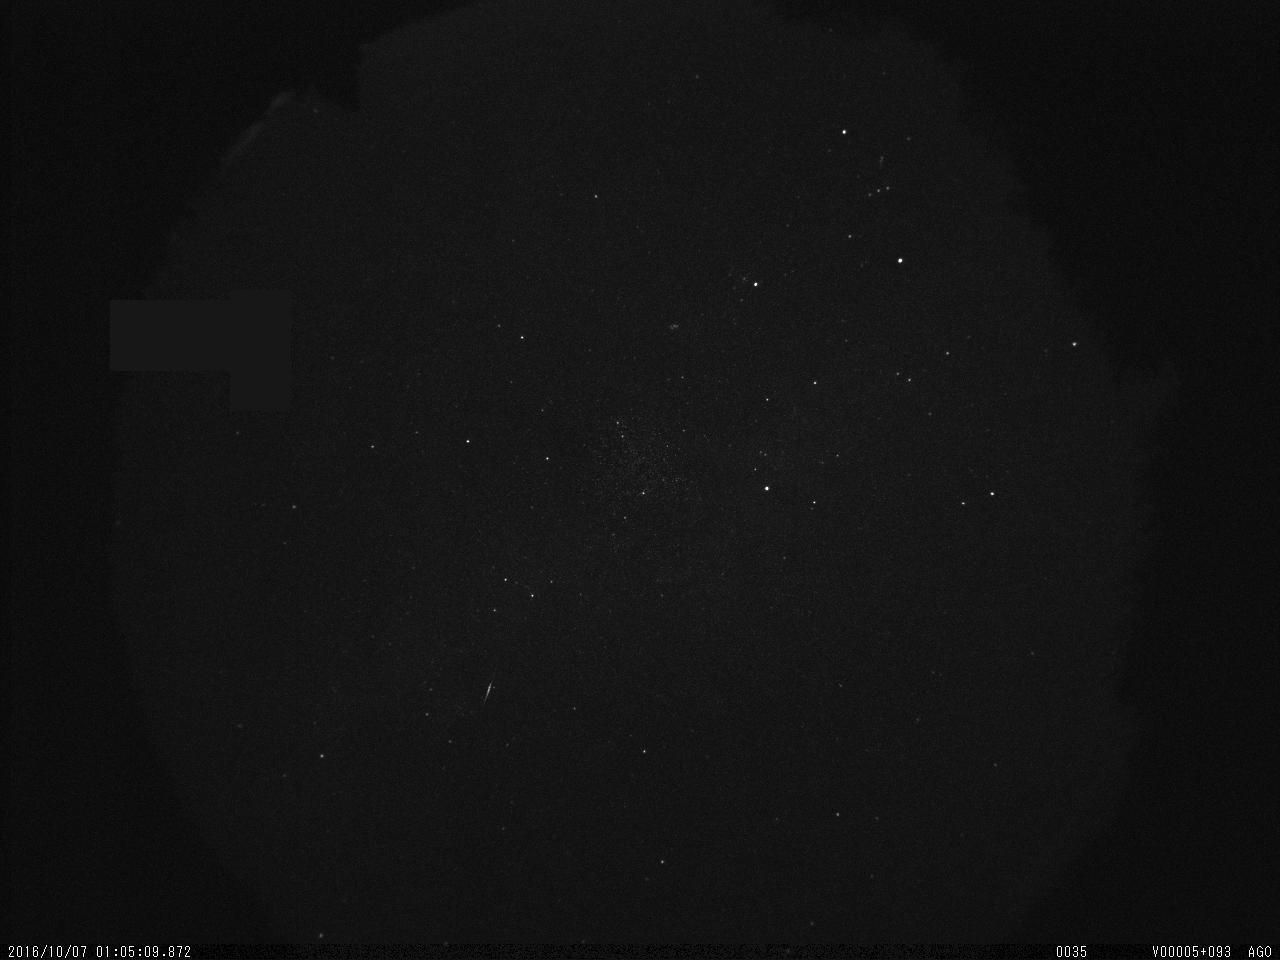meteor: (469, 672, 510, 713)
